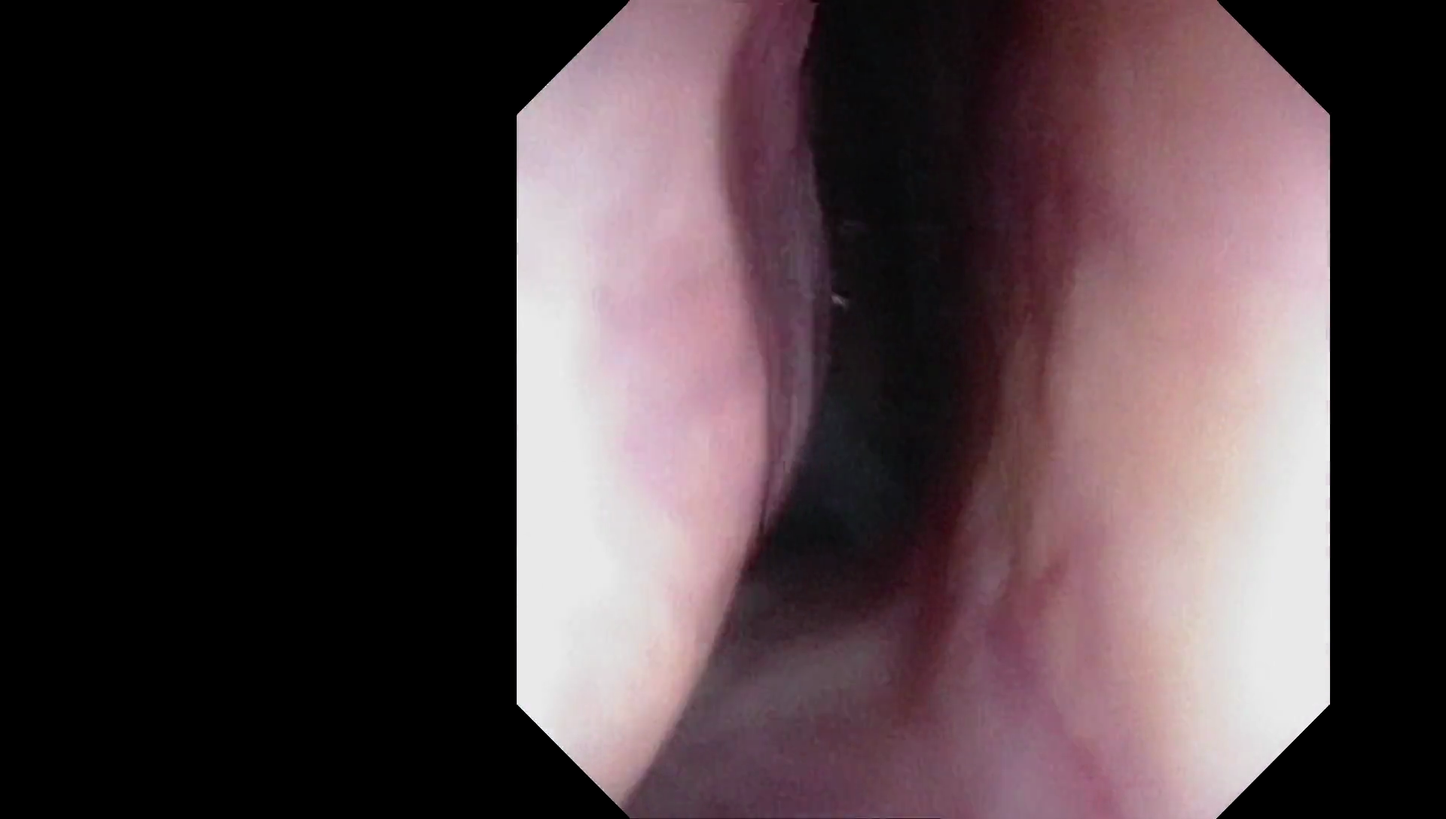close_wall: (985, 184, 1320, 703), (520, 138, 773, 698)
next: (728, 11, 1038, 656)
